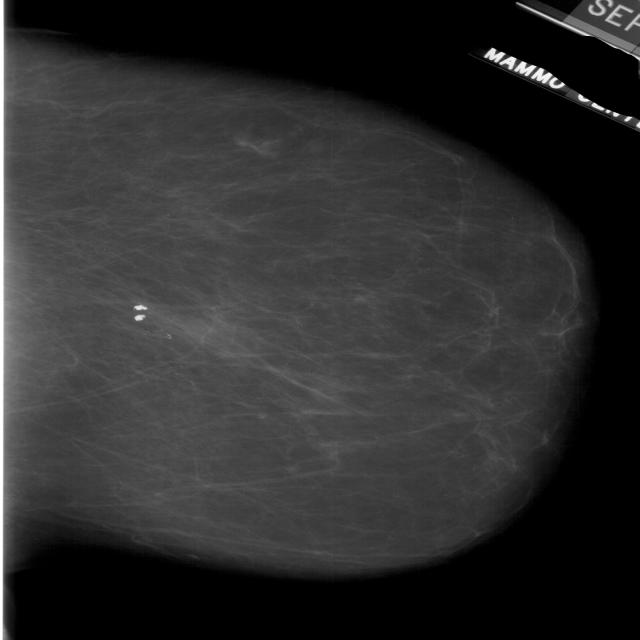normal: (0, 34, 592, 576)
